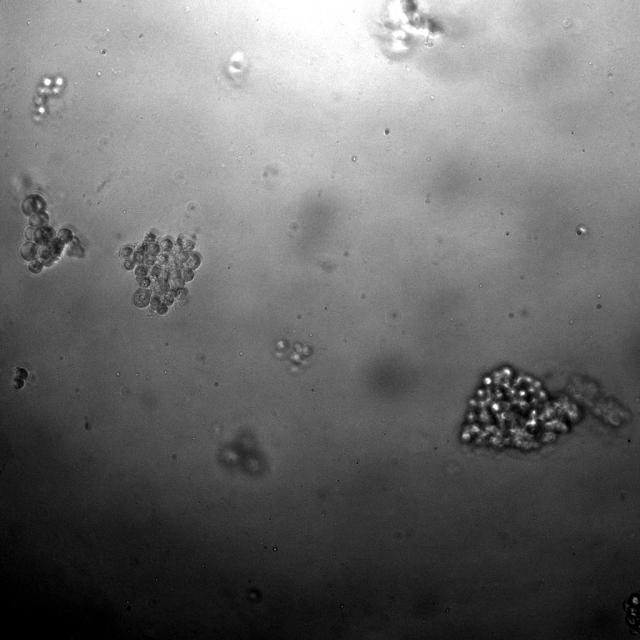organoid: (459, 364, 632, 452), (118, 232, 202, 314), (18, 192, 83, 274), (376, 0, 444, 56), (219, 431, 267, 477), (32, 75, 66, 121), (274, 339, 314, 373), (11, 366, 28, 390)
